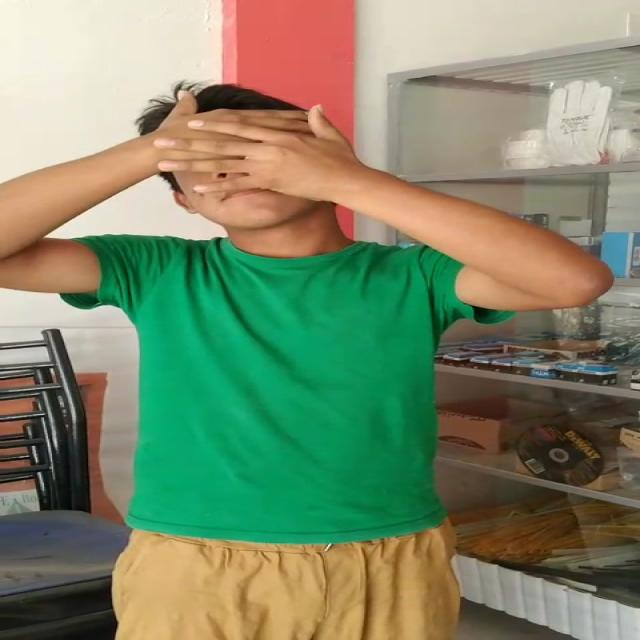7_mano_rostro: (144, 86, 411, 195)
